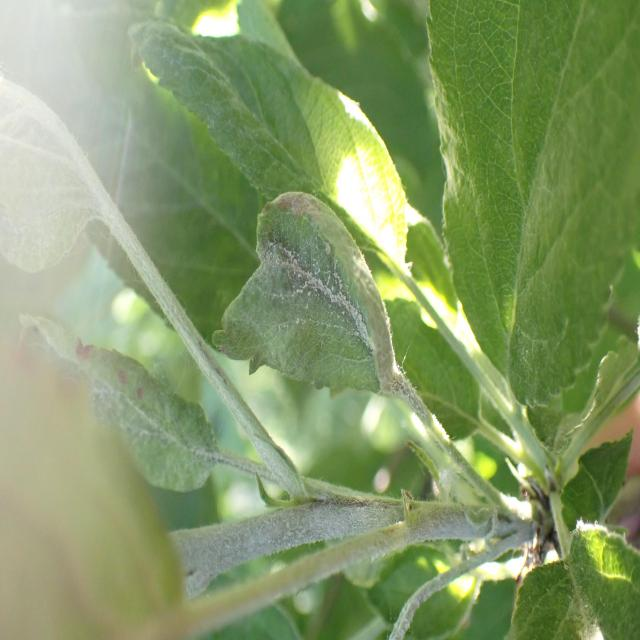Powdery_mildew: (212, 184, 410, 408), (14, 319, 230, 494), (0, 69, 149, 295)
